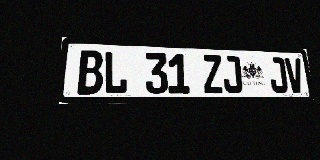1: (167, 53, 190, 94)
3: (145, 53, 168, 94)
B: (77, 50, 103, 94)
J: (221, 55, 243, 93), (268, 57, 288, 93)
L: (103, 51, 127, 94)
V: (284, 58, 305, 93)
Z: (202, 55, 224, 93)
